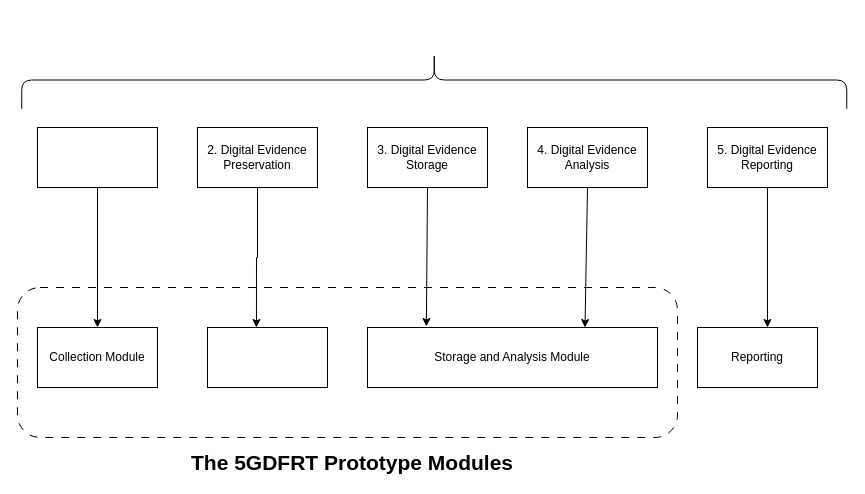
The diagram is 865 pixels wide and 494 high, and some of its shapes have lost their labels. The shapes that lost their labels are listed below. From the top down, each one's box as (x1, y1, x2, y2) in pixels, then its label:
(21, 50, 847, 109): The 5G NFV Forensic Readiness Model
(36, 126, 158, 188): 1. Digital Evidence Collection
(206, 326, 328, 388): Transport Module
